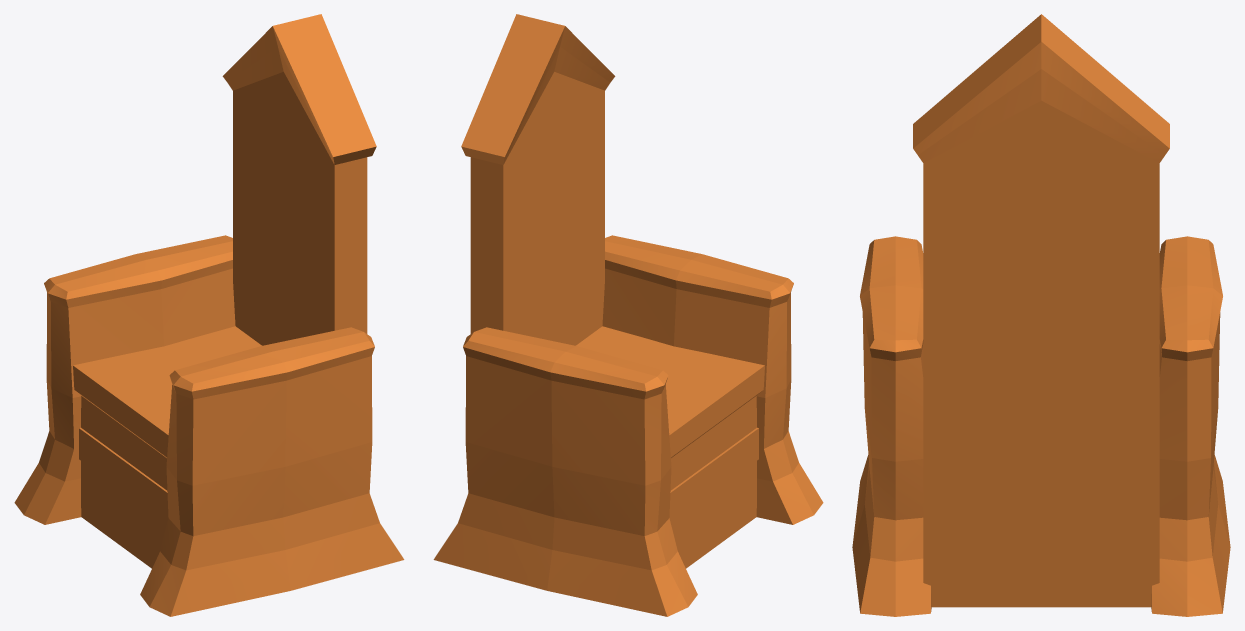
The picture shows the model from 3 angles, left to right: view 1: azimuth 30°, elevation 25°; view 2: azimuth 150°, elevation 25°; view 3: azimuth 270°, elevation 25°; orthographic projection. The views are drawn at different scales.
Parts seen in each view (by area): view 1: Throne; view 2: Throne; view 3: Throne.
Boxes of the visible parts, x1=… form: Throne: x1=14, y1=14, x2=404, y2=616; Throne: x1=433, y1=14, x2=823, y2=616; Throne: x1=852, y1=14, x2=1230, y2=616.
Size of what is drawn, in the model's own units: 1.5 by 2.86 by 1.72.
